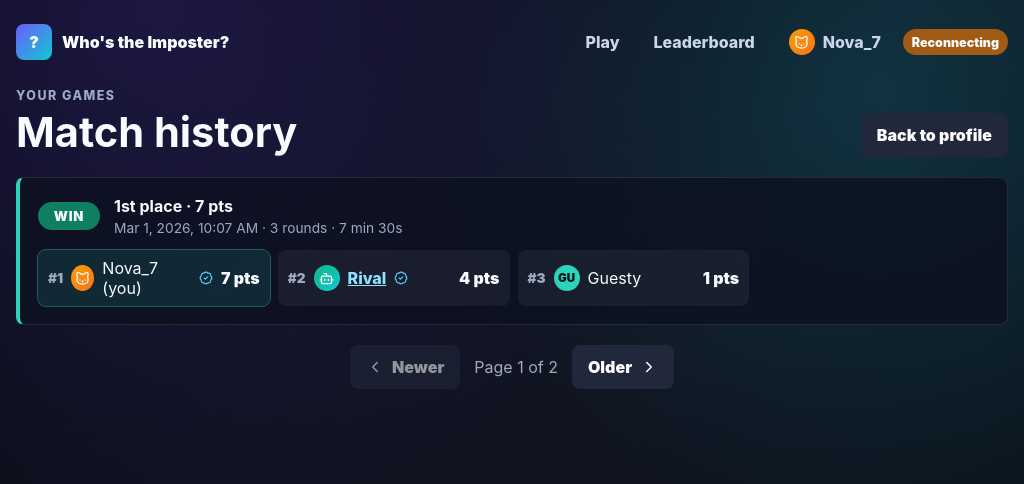
Test: match history page › shows outcome, placing and final standings, sends the session token and pages through results
The image size is (1024, 484).
Expected: the text "1st place · 7 pts" is shown, [114,196,233,216]
Expected: the text "Win" is shown, [38,202,100,230]
Click the button "Older" at (623, 367), box [572,345,674,389]
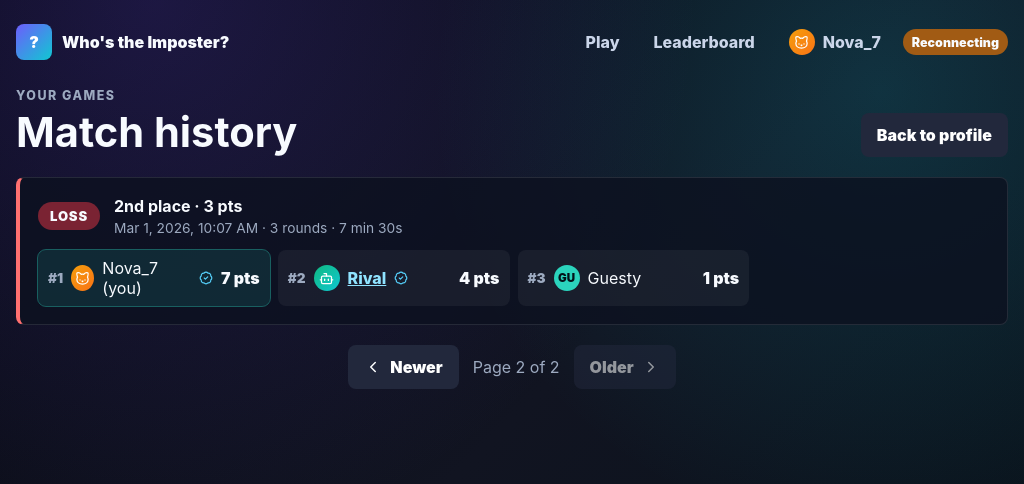
Expected: the text "2nd place · 3 pts" is shown, [114,196,242,216]
Expected: the text "Loss" is shown, [38,202,100,230]
Expected: the button "Older" is disabled, [574,345,676,389]
